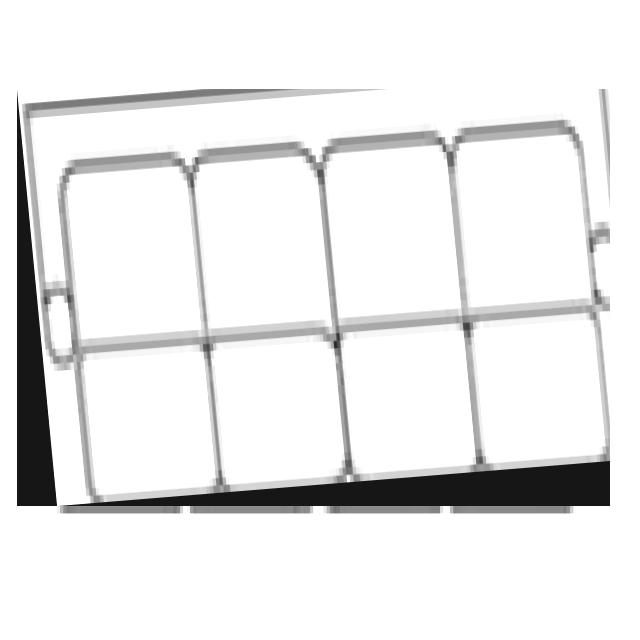sofa: (17, 89, 610, 506)
